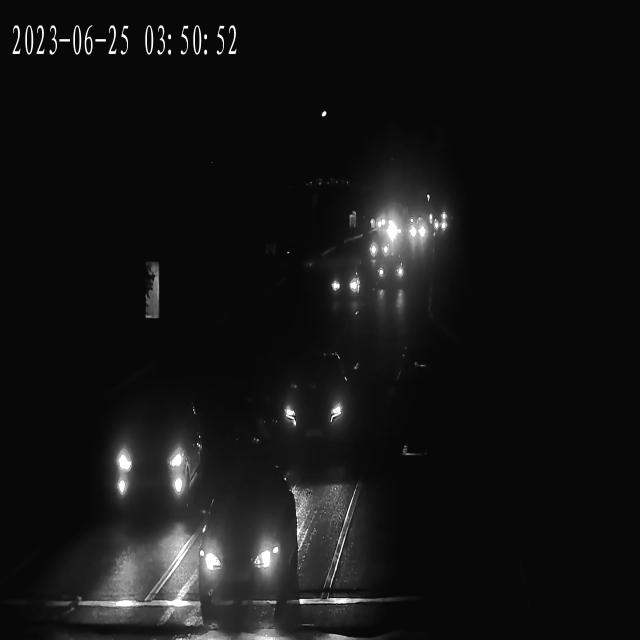Car: (198, 483, 304, 605), (105, 395, 209, 511), (274, 365, 358, 447), (329, 269, 363, 303), (373, 258, 407, 288), (364, 236, 394, 260), (374, 215, 398, 236), (407, 223, 429, 244), (370, 215, 394, 232), (378, 218, 400, 236), (368, 215, 388, 231), (429, 217, 448, 232)
